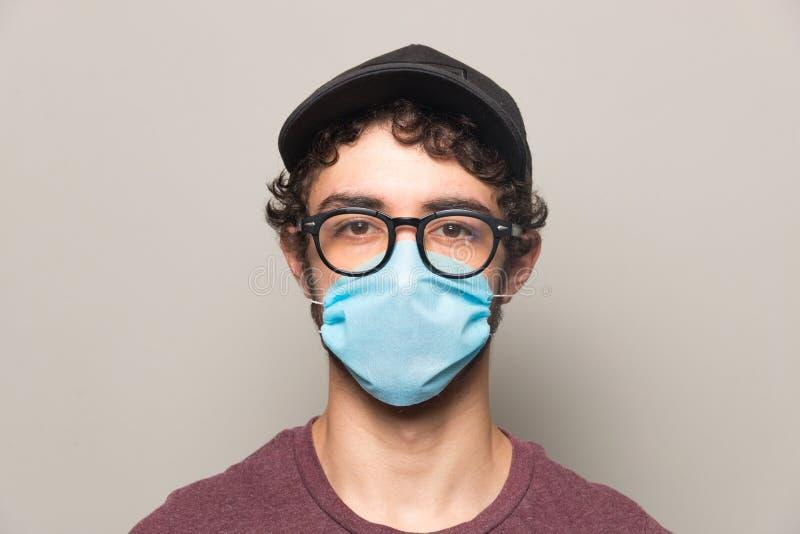cap: (270, 34, 550, 206)
mask: (316, 240, 503, 419)
sunglasses: (296, 197, 529, 286)
